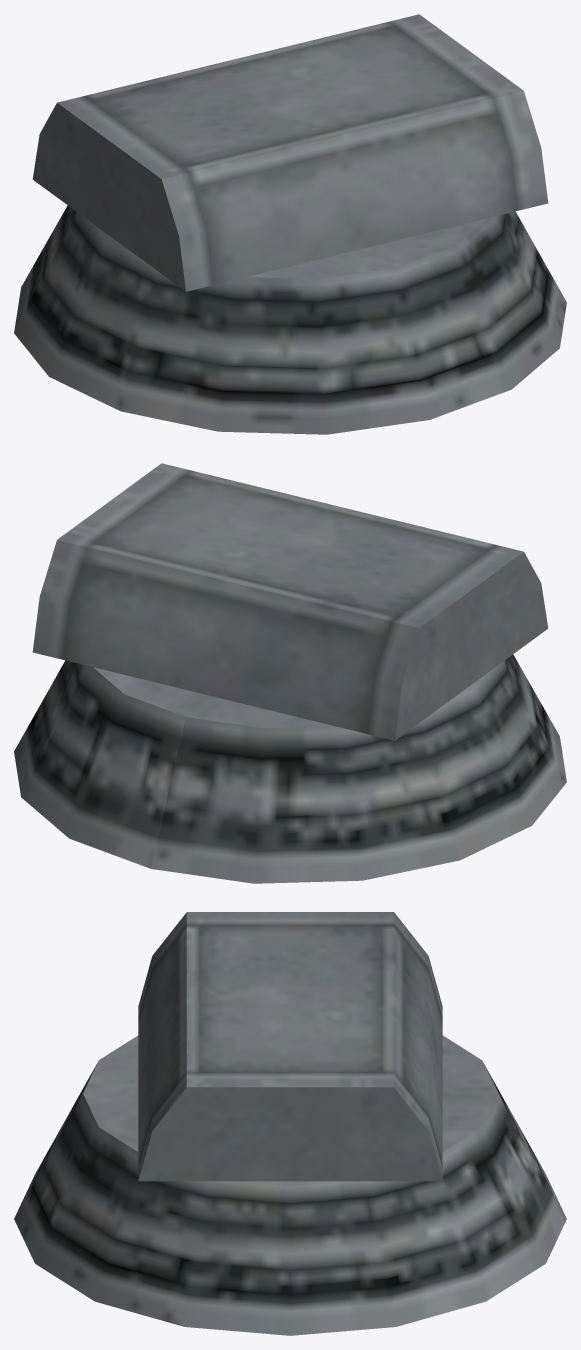
Rendered from tie_aggressor_turret_base_l0.fbx.
3 views of the same model, one above another, from view 1: azimuth 30°, elevation 25°; view 2: azimuth 150°, elevation 25°; view 3: azimuth 270°, elevation 25° (orthographic).
Parts seen in each view (by area): view 1: mesh_node; view 2: mesh_node; view 3: mesh_node.
Part boxes in pixels (left/top/right/bottom): mesh_node: left=14, top=14, right=566, bottom=434; mesh_node: left=14, top=463, right=566, bottom=883; mesh_node: left=14, top=912, right=566, bottom=1335.
Bounding box in the file's own units: 0.8 × 0.35 × 0.8.
Materials: 1 (1 with a texture image).
